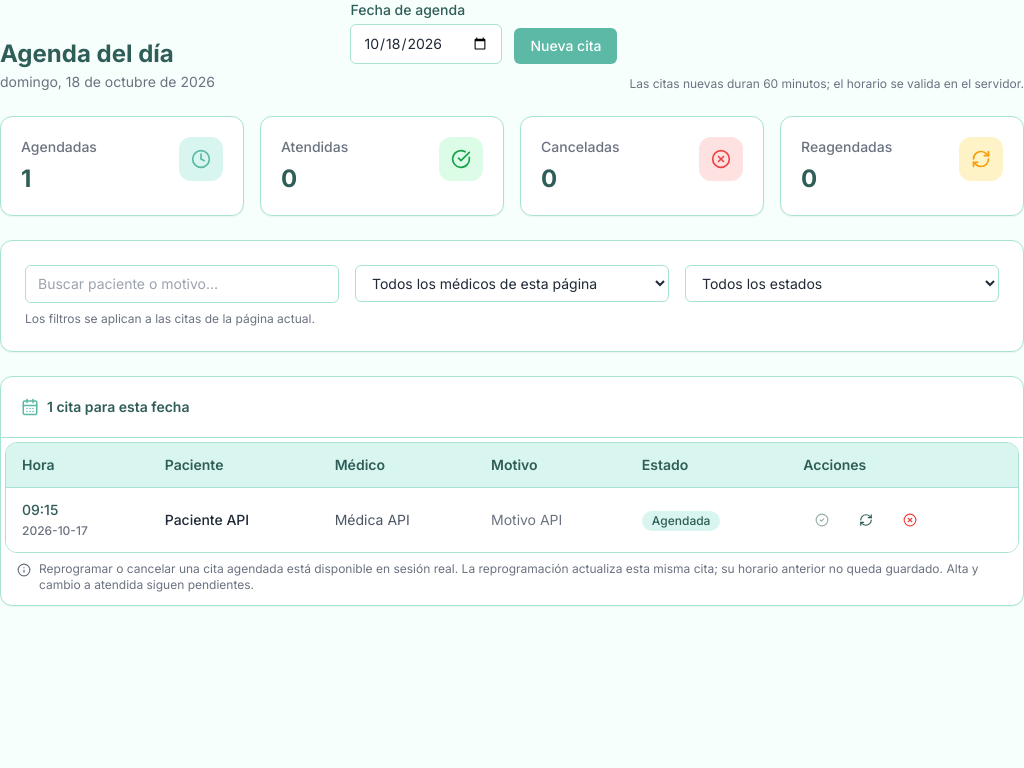
Test: AgendaPage de recepción › muestra el error real de conflicto y mantiene el formulario abierto
Click the button named "Reagendar cita: Paciente API".
click(866, 520)  # box 847,507 -> 885,533
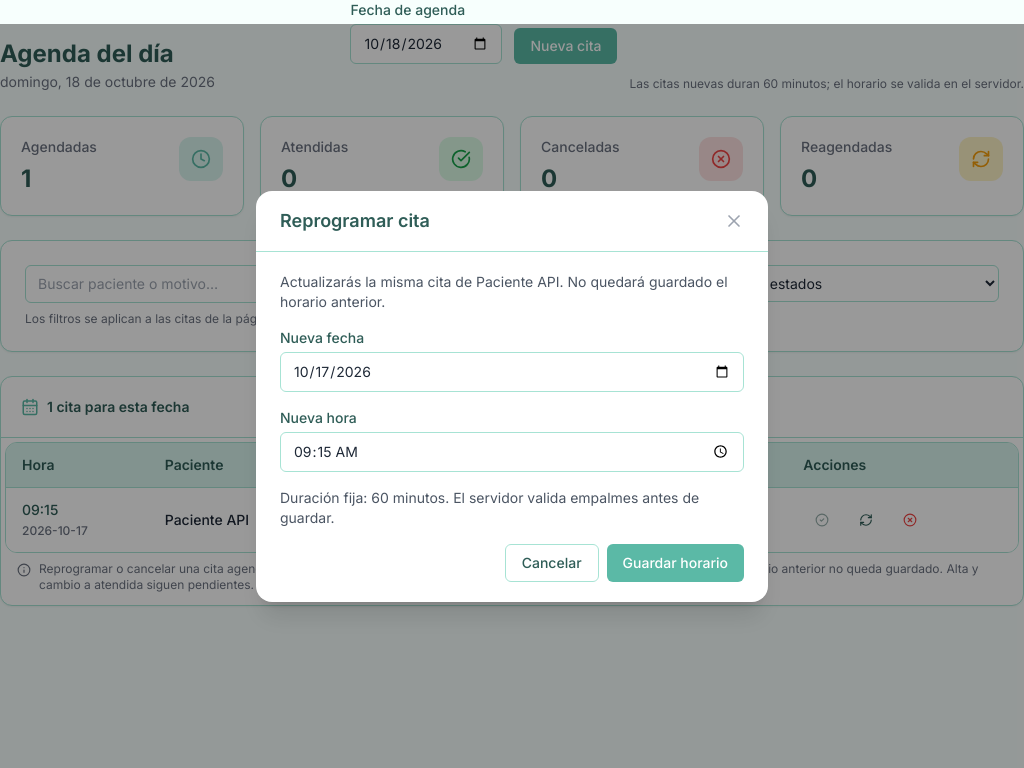
Type "2026-10-20" into the date field labelled "Nueva fecha".
click(512, 372); type("2026-10-20")  # box 280,352 -> 744,392
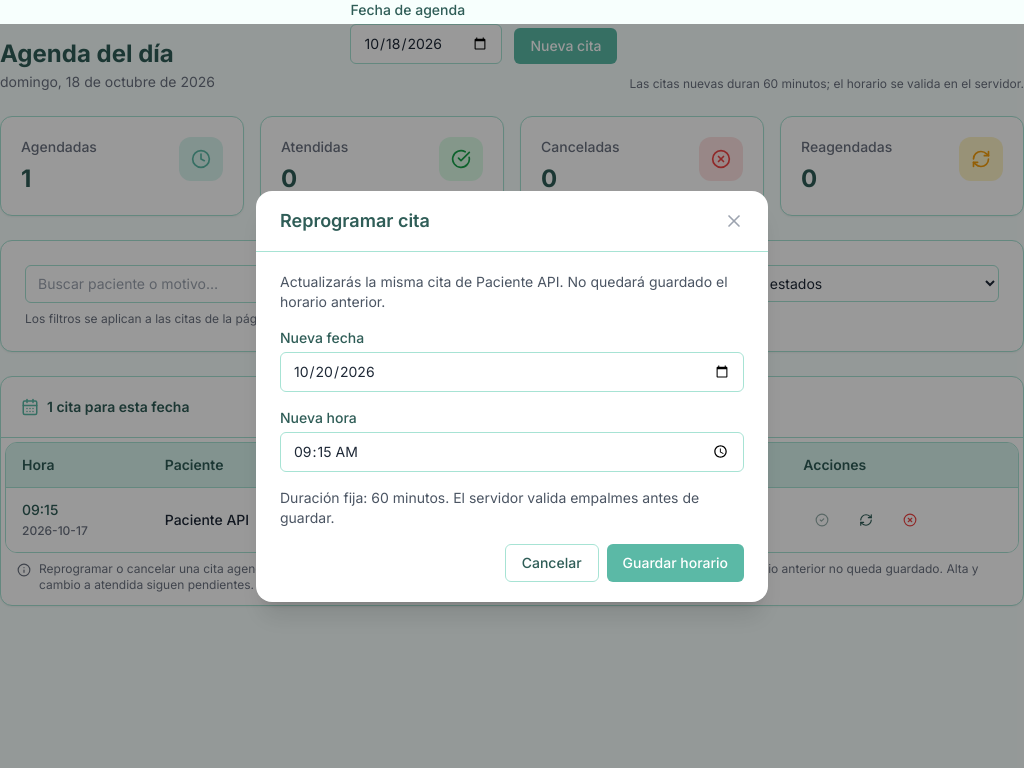
Replace the text in the time field labelled "Nueva hora" with "11:45" at [512, 452], box 280,432 -> 744,472
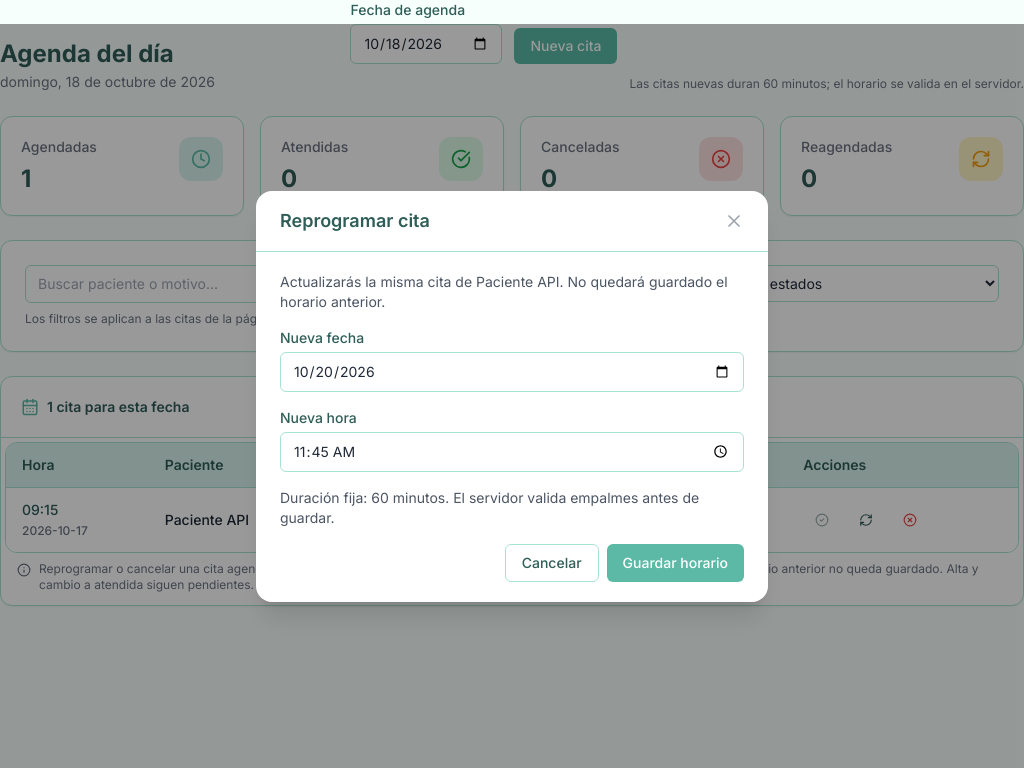
Click the button "Guardar horario".
click(675, 562)  # box 607,544 -> 744,582
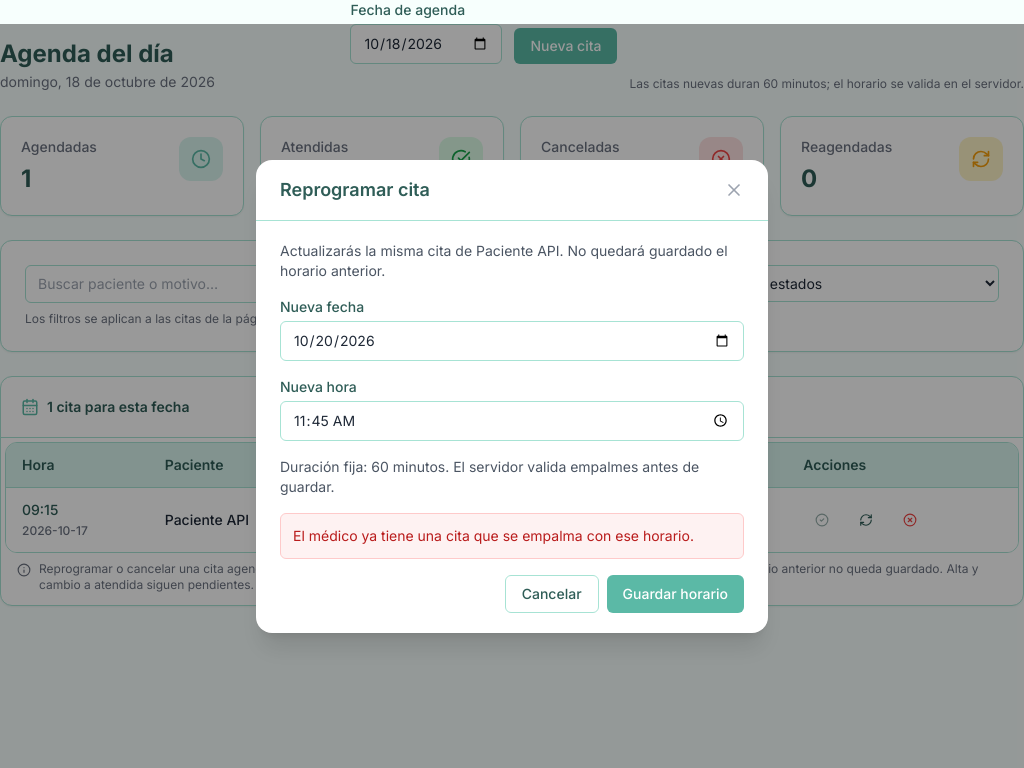
Result: the button "Guardar horario" is shown at 607,574 -> 744,612
Result: the message shows "se empalma con ese horario" at 293,526 -> 694,544
